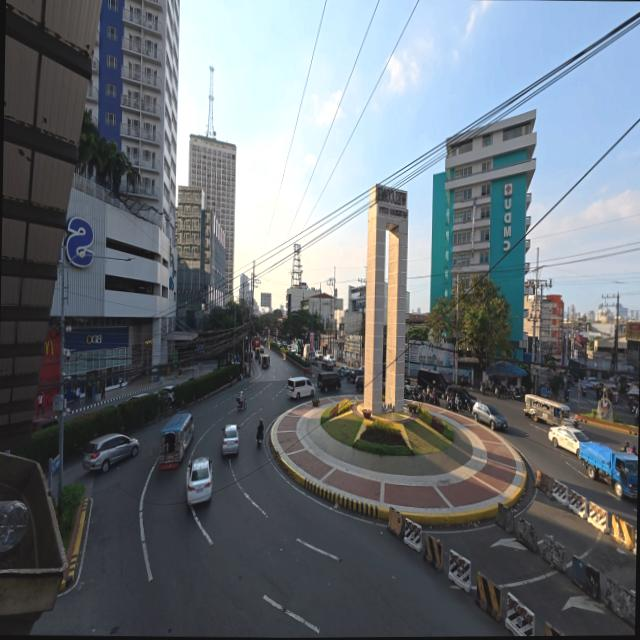Jeepneys: (157, 413, 193, 470), (523, 395, 570, 425), (260, 354, 269, 368)
car: (82, 434, 137, 472), (186, 457, 211, 504), (548, 427, 588, 456), (471, 401, 507, 430), (445, 386, 475, 412), (221, 424, 237, 454), (32, 416, 58, 432), (600, 382, 618, 404), (346, 366, 364, 382), (157, 386, 173, 402), (127, 392, 148, 401), (353, 375, 363, 392), (321, 358, 334, 371), (337, 365, 350, 377), (323, 355, 335, 367), (585, 378, 598, 388), (314, 351, 322, 361), (259, 345, 263, 352), (276, 341, 281, 346)
motorcycle: (509, 386, 523, 400), (428, 390, 439, 407), (479, 381, 491, 393), (236, 397, 245, 410), (403, 384, 410, 399), (256, 435, 261, 447), (563, 391, 568, 402)
trucks: (579, 442, 637, 498)
vans: (416, 369, 448, 397), (286, 375, 314, 398), (316, 370, 341, 392)
